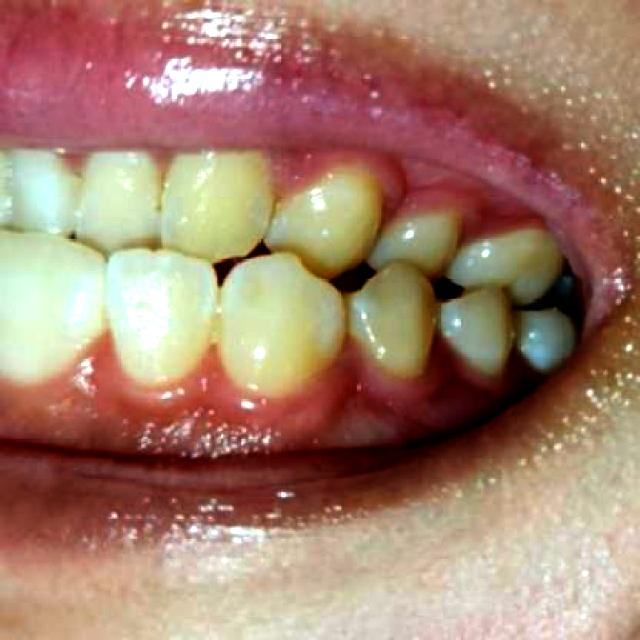Plaque: (331, 329, 396, 410), (258, 141, 318, 210)
